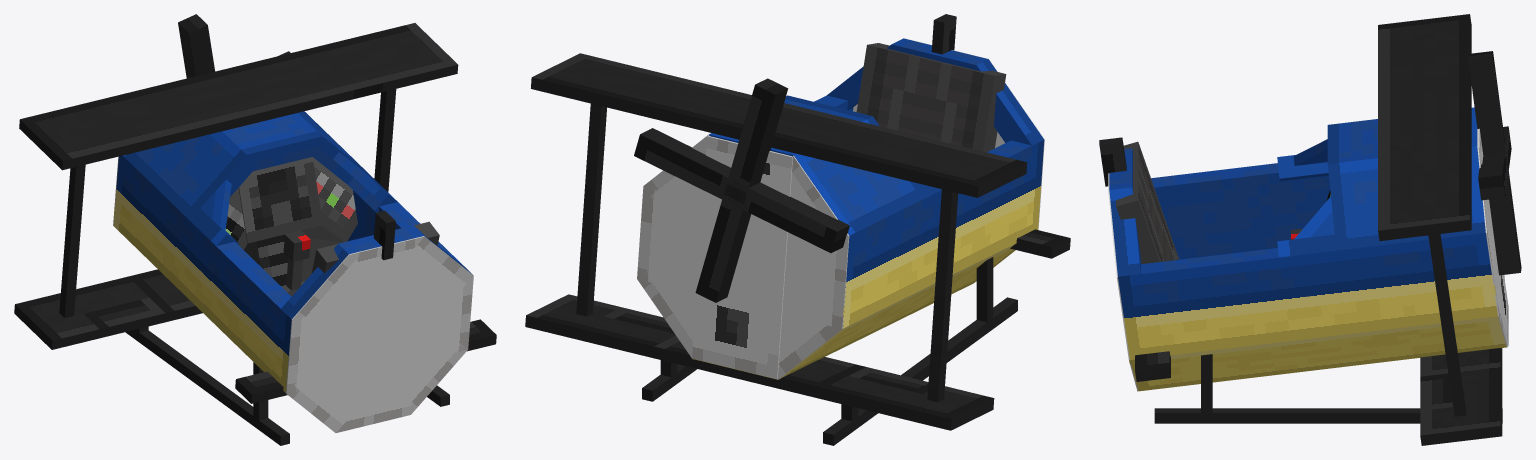
The model's file is zelensky.gltf.
The picture shows the model from 3 angles, left to right: view 1: azimuth 30°, elevation 25°; view 2: azimuth 150°, elevation 25°; view 3: azimuth 270°, elevation 25°; orthographic projection. The views are drawn at different scales.
Visible parts, largest first — view 1: bone (×29), bone2, LFlap, Pro, BRFlap, BLFlap; view 2: bone (×20), Pro (×2), bone2 (×3), BRFlap, LFlap, RFlap; view 3: bone (×19), Pro (×2), bone2 (×2), RFlap, BLFlap.
Boxes of the visible parts, x1,y1,x2,y2 form: bone (×29): [14, 23, 473, 432]; bone2: [125, 330, 289, 445]; LFlap: [84, 297, 165, 338]; Pro: [178, 14, 215, 78]; BRFlap: [235, 371, 287, 403]; BLFlap: [467, 319, 496, 351]; bone (×20): [525, 14, 1044, 430]; Pro (×2): [634, 78, 849, 302]; bone2 (×3): [642, 257, 1017, 445]; BRFlap: [1010, 229, 1070, 258]; LFlap: [849, 367, 928, 393]; RFlap: [604, 307, 674, 333]; bone (×19): [1099, 14, 1508, 445]; Pro (×2): [1468, 51, 1521, 275]; bone2 (×2): [1154, 354, 1502, 423]; RFlap: [1420, 373, 1453, 410]; BLFlap: [1135, 351, 1170, 381].
Size of the model in its own units: 2.62 by 1.89 by 2.27.
Materials: 1 (1 with a texture image).
